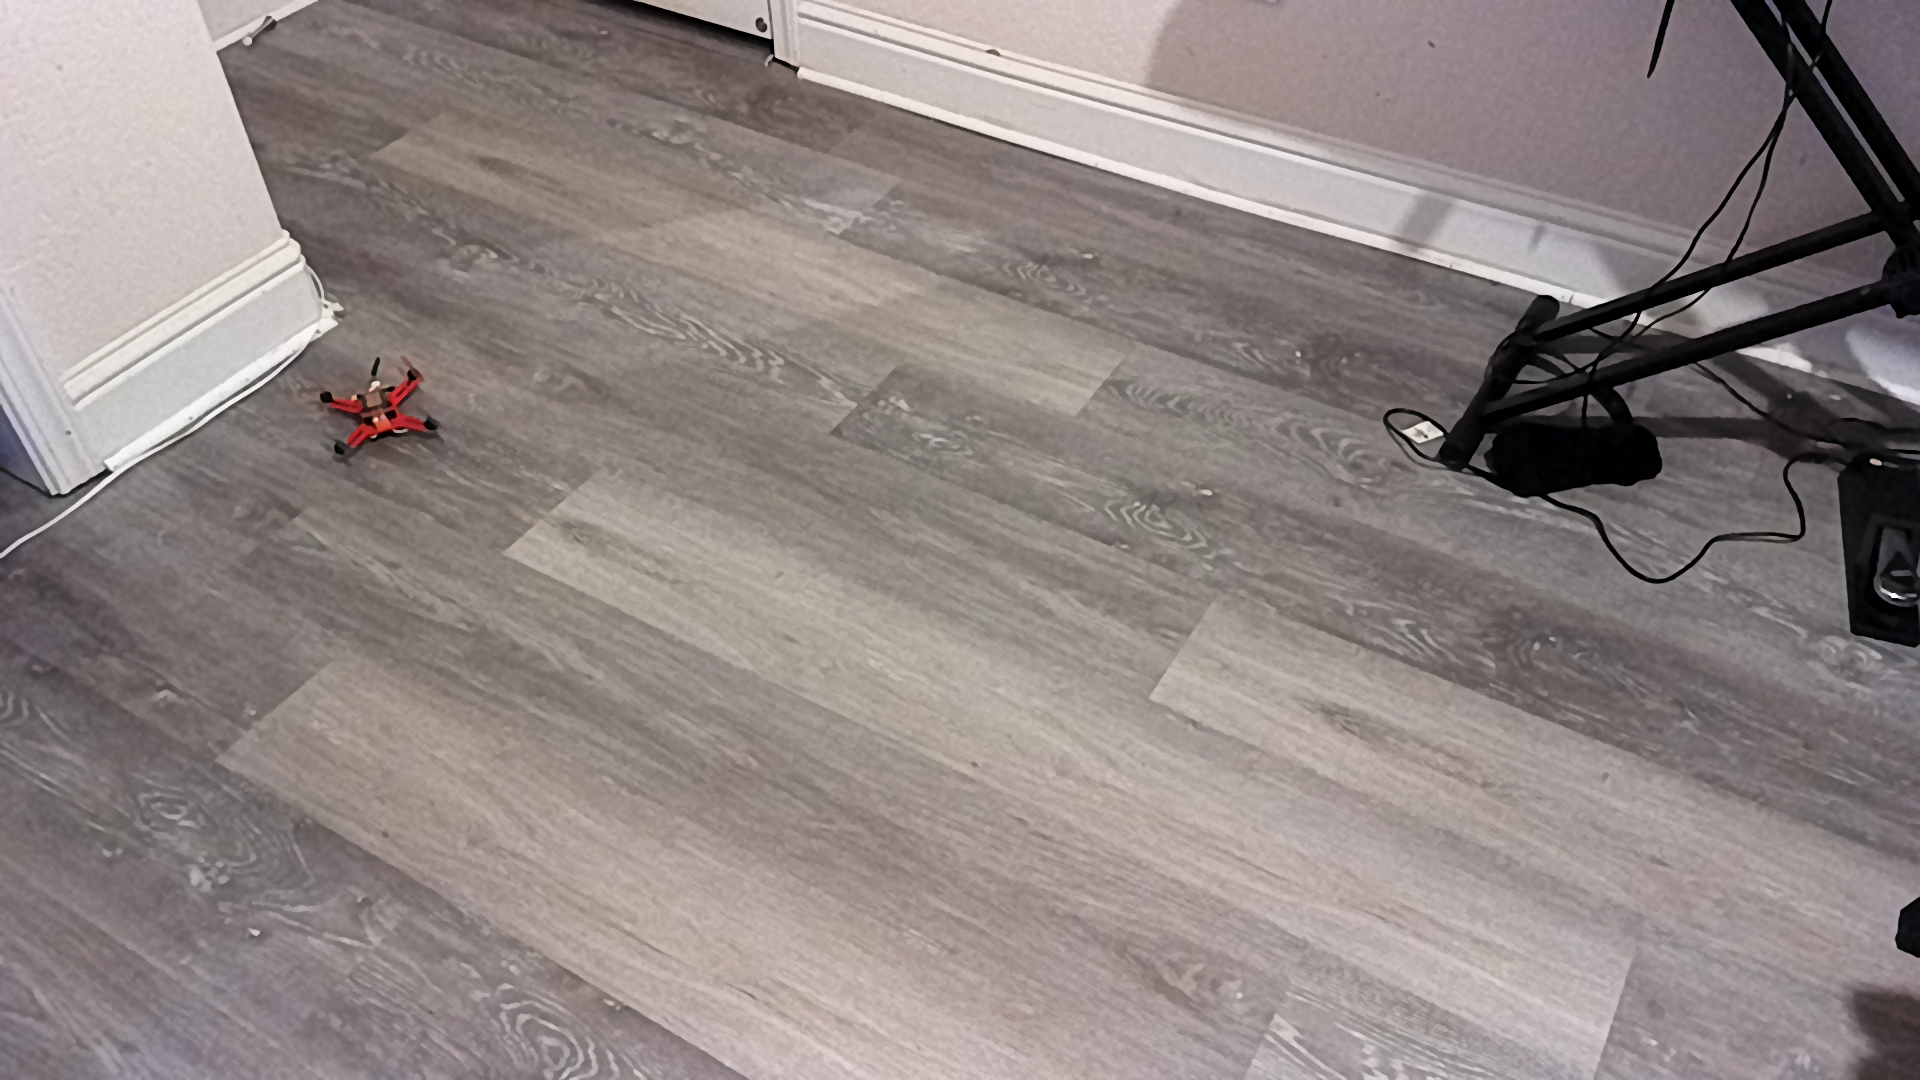drone: (311, 349, 458, 473)
